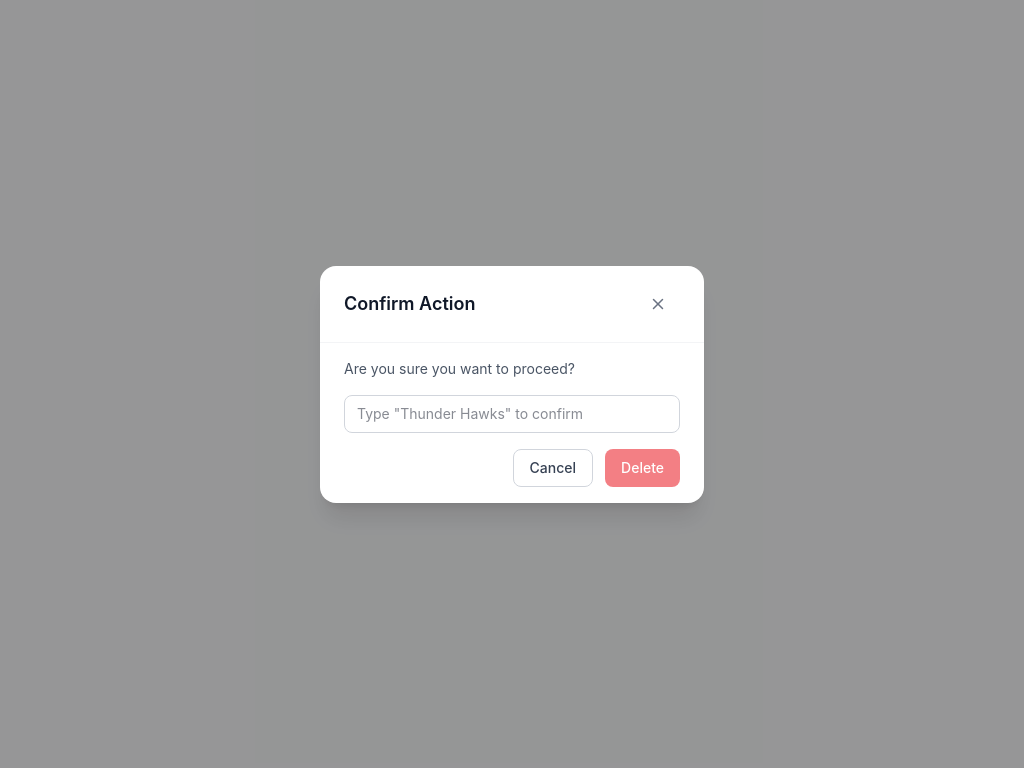
Scenario: ConfirmDialog — typeToConfirm mode › enables the confirm button when the exact phrase is typed
In the field named "confirm deletion": (512, 414) [344, 394, 680, 432], type "Thunder Hawks"
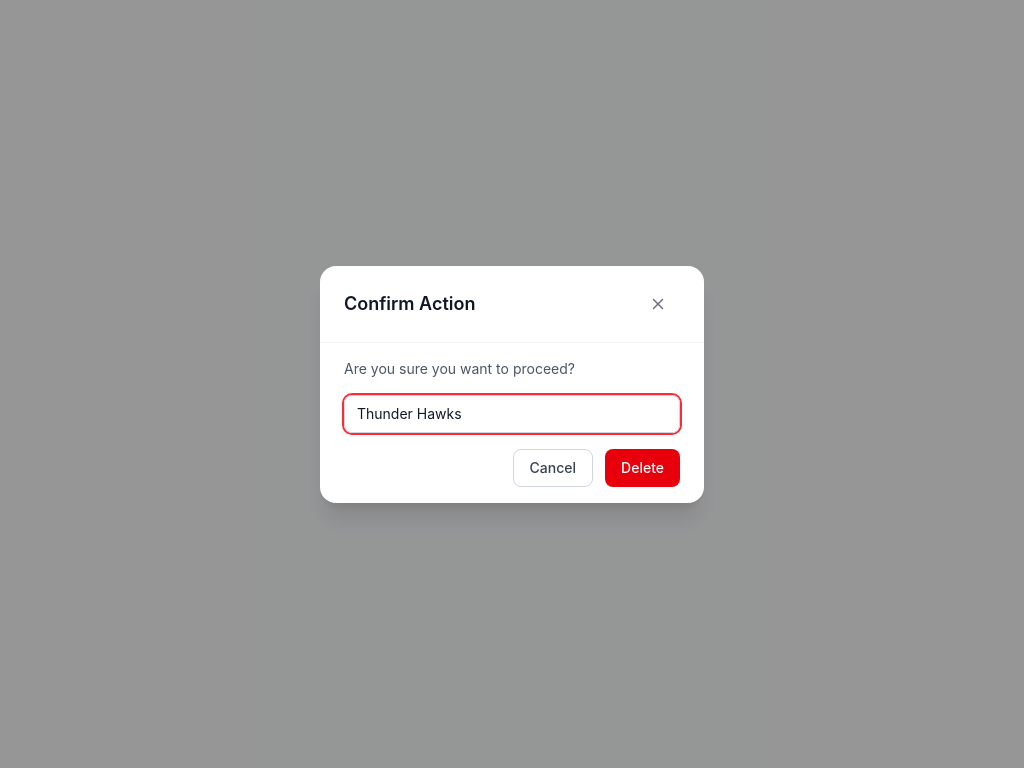
Now the button "Delete" is enabled, box [605, 448, 680, 486]
